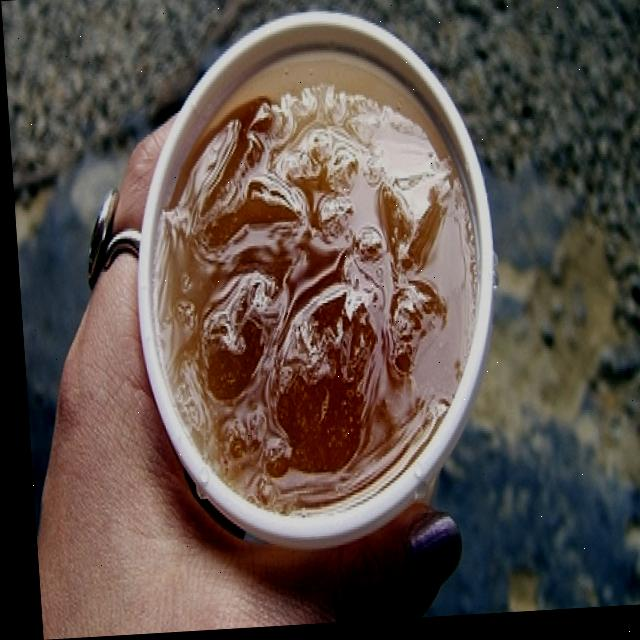蛋糕甜品: (105, 0, 528, 550)
